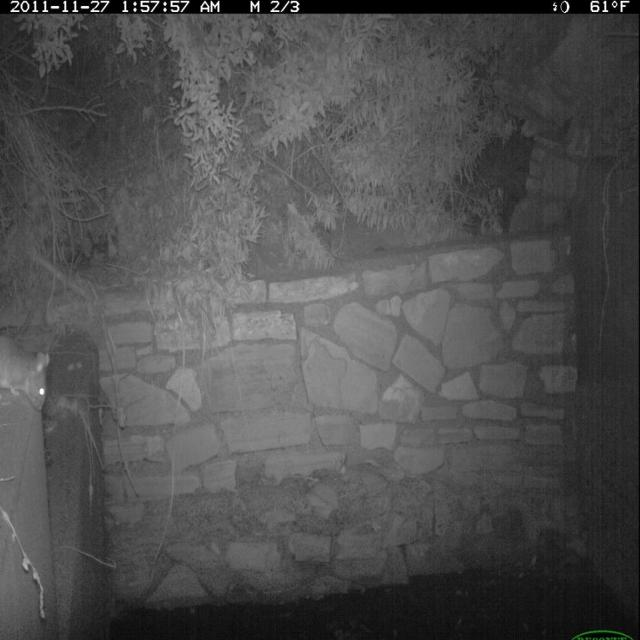rodent: (2, 340, 61, 432)
